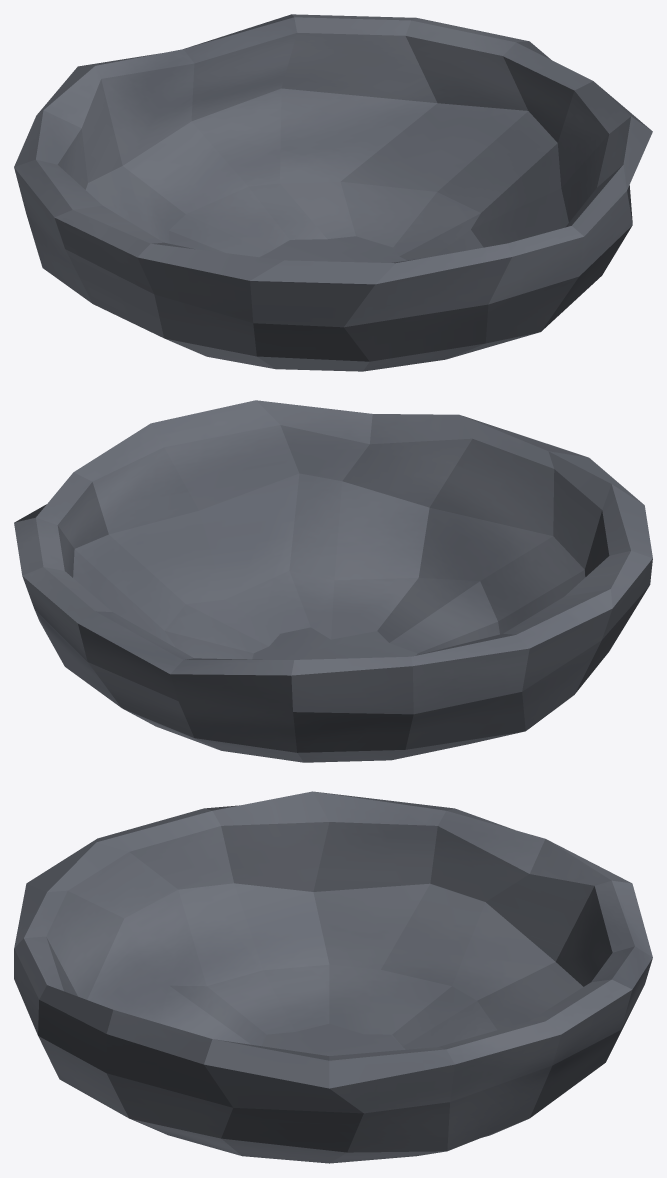
The model's file is Collin_StoneBowl00.fbx.
3 views of the same model, one above another, from view 1: azimuth 30°, elevation 25°; view 2: azimuth 150°, elevation 25°; view 3: azimuth 270°, elevation 25° (orthographic).
Parts seen in each view (by area): view 1: bowl; view 2: bowl; view 3: bowl.
Boxes of the visible parts, x1,y1,x2,y2 form: bowl: (14, 14, 652, 371); bowl: (14, 400, 652, 762); bowl: (14, 791, 652, 1163).
Size of the model in its own units: 24.37 by 7.41 by 24.21.
1 material, 1 textured.
